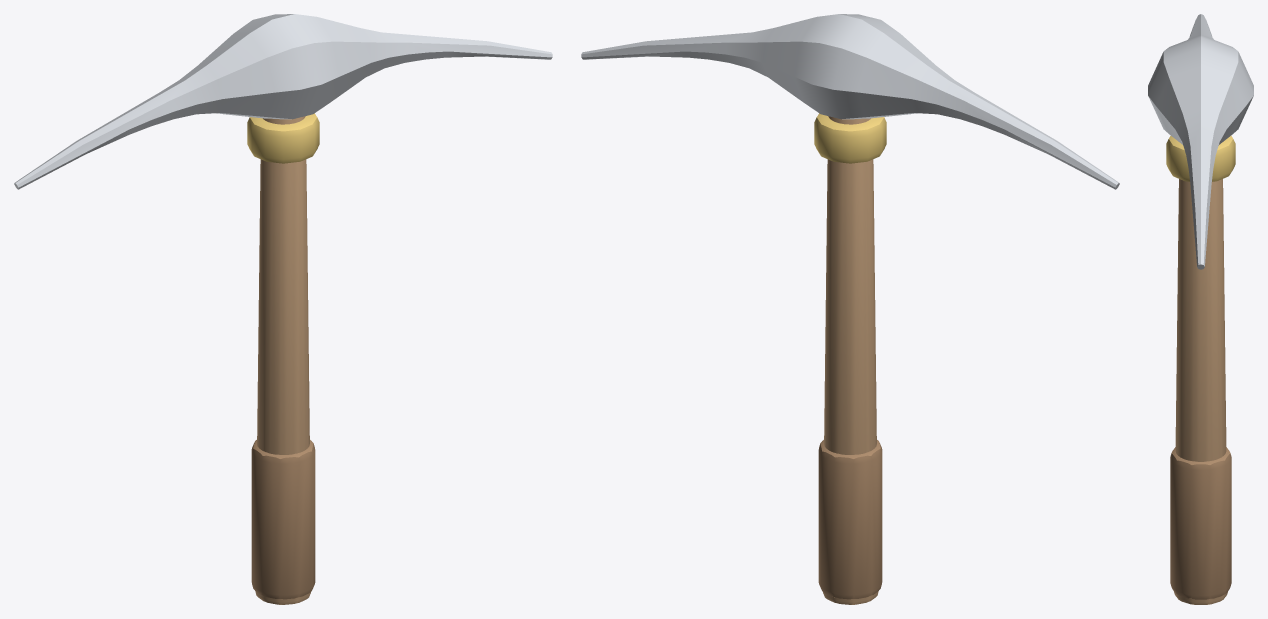
The model's file is Pickaxe.fbx.
3 renders of one model, left to right at view 1: azimuth 30°, elevation 25°; view 2: azimuth 150°, elevation 25°; view 3: azimuth 270°, elevation 25°, orthographic. The views are drawn at different scales.
Parts seen in each view (by area): view 1: Head, Handle, Grip, Binding; view 2: Head, Handle, Grip, Binding; view 3: Handle, Head, Grip, Binding.
Boxes of the visible parts, x1,y1,x2,y2 form: Head: (14,14,552,189); Handle: (255,116,310,604); Grip: (251,440,315,599); Binding: (247,113,319,163); Head: (581,14,1119,189); Handle: (823,116,878,604); Grip: (818,440,882,599); Binding: (814,113,886,163); Handle: (1174,179,1227,604); Head: (1148,14,1253,269); Grip: (1170,447,1231,599); Binding: (1166,136,1235,181).
Bounding box in the file's own units: 4.62 × 4.76 × 0.8262.
